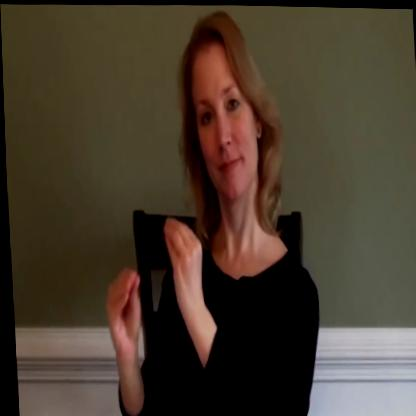Fix: (91, 204, 212, 352)
